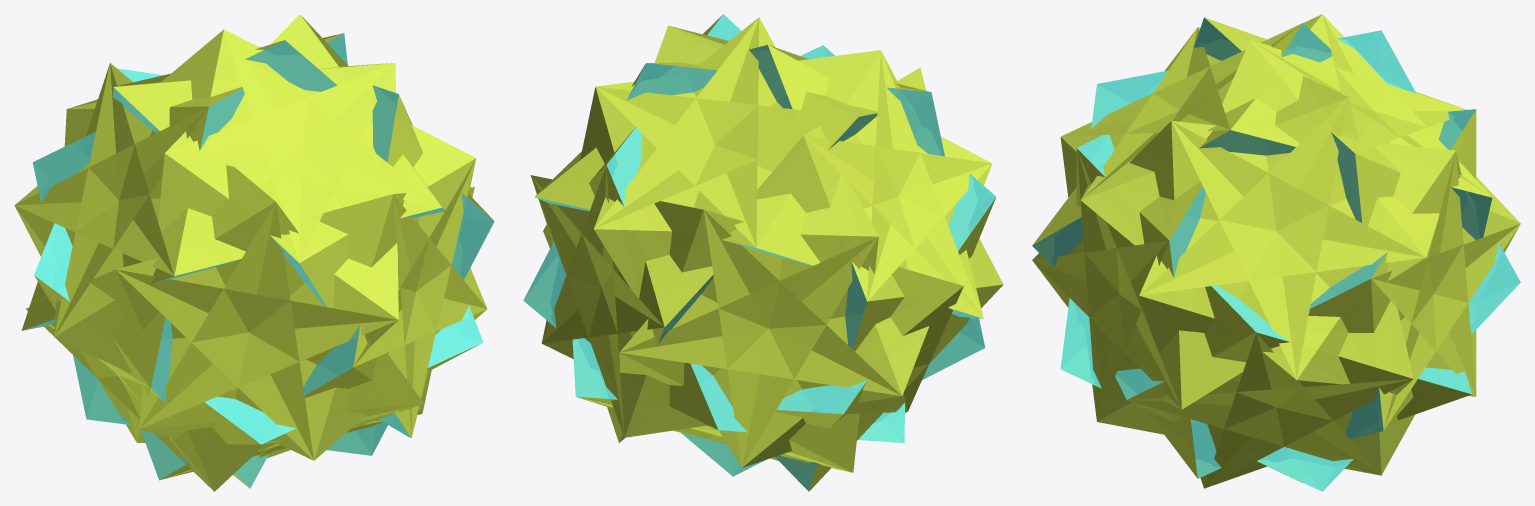
Rendered from InvertedSnubDodecadodecahedronA.obj.
The picture shows the model from 3 angles, left to right: view 1: azimuth 30°, elevation 25°; view 2: azimuth 150°, elevation 25°; view 3: azimuth 270°, elevation 25°; orthographic projection.
Bounding box in the file's own units: 1.69 × 1.69 × 1.69.
